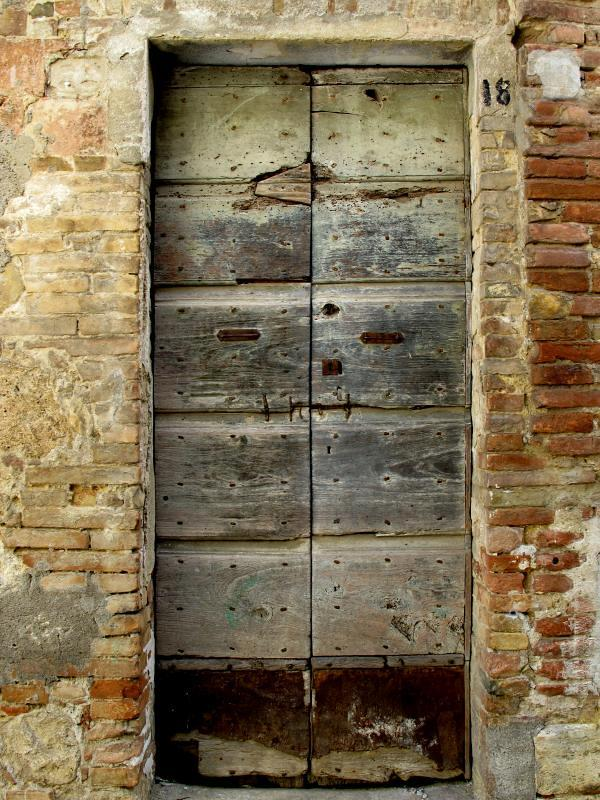door: (150, 46, 474, 788)
